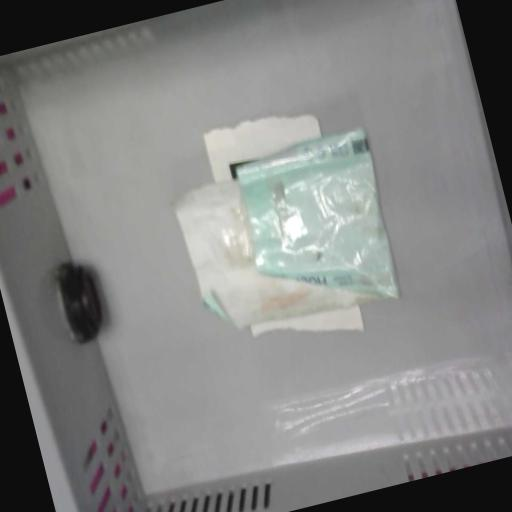triple_syringe: (164, 126, 410, 351)
